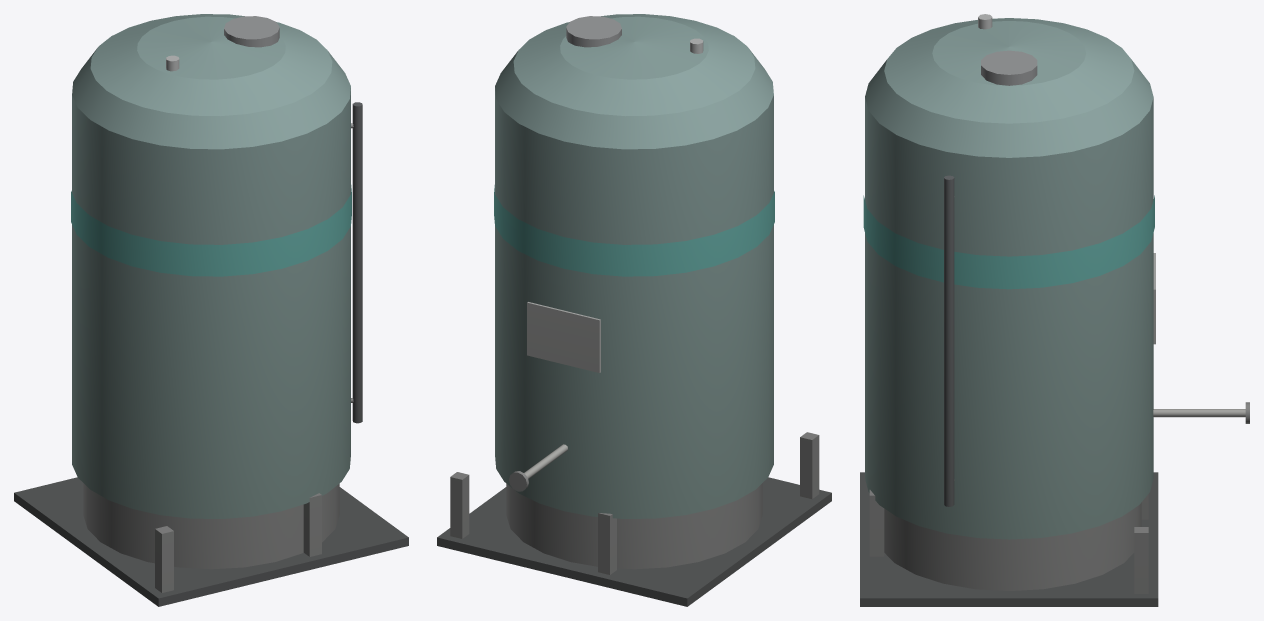
File: flTankCool_steel.glb
The picture shows the model from 3 angles, left to right: view 1: azimuth 30°, elevation 25°; view 2: azimuth 150°, elevation 25°; view 3: azimuth 270°, elevation 25°; orthographic projection. The views are drawn at different scales.
Visible parts, largest first — view 1: flTankCool_steel; view 2: flTankCool_steel; view 3: flTankCool_steel.
Boxes of the visible parts, box(x1,y1,x2,y2) form: flTankCool_steel: box(14, 14, 408, 606); flTankCool_steel: box(437, 14, 831, 606); flTankCool_steel: box(860, 14, 1249, 606).
Bounding box in the file's own units: 1.24 × 2.3 × 1.62.
